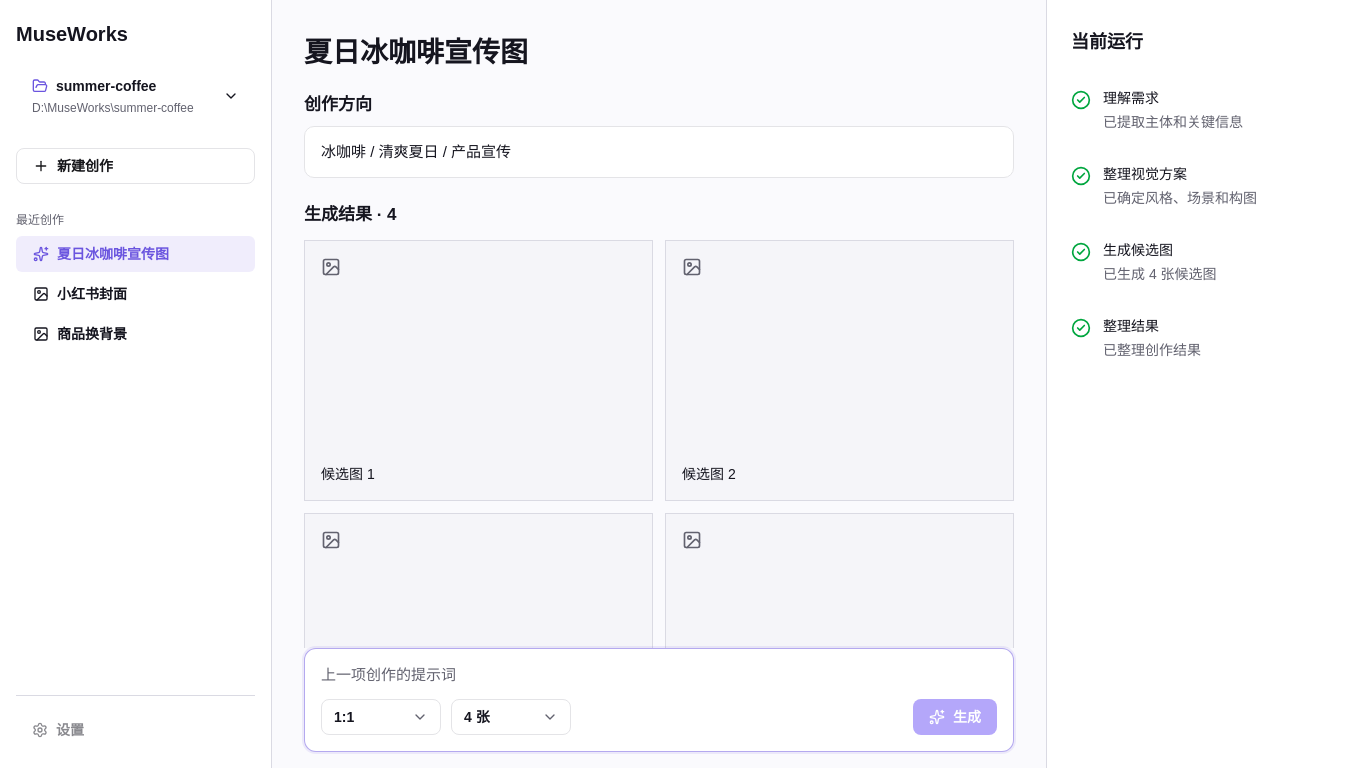
Scenario: creative workspace renderer › clears the Composer when a new CreativeTask is opened
Clear the field named "创作描述" at (388, 674), box [321,665,456,684]
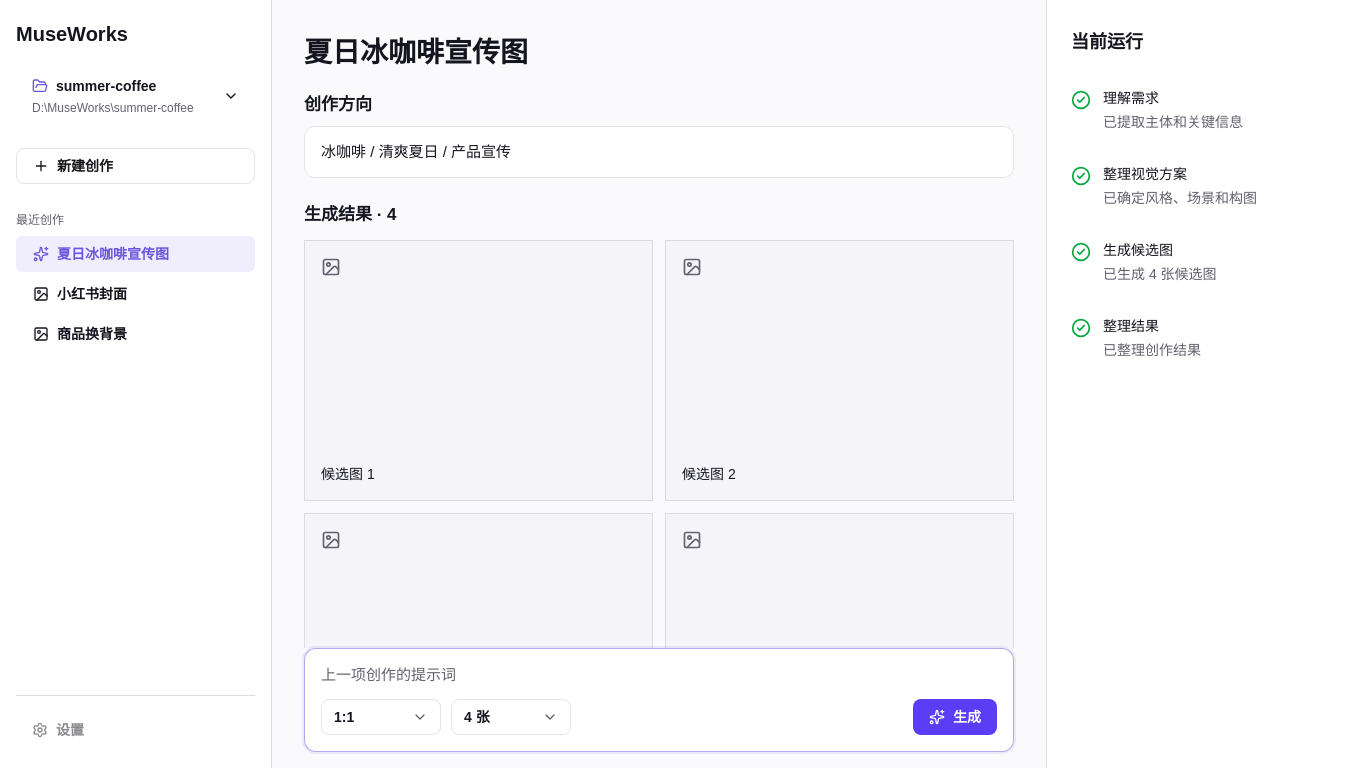
Result: the button "生成" is enabled at [913,699,997,735]
Click the button "新建创作".
click(136, 166)  # box [16,148,255,184]
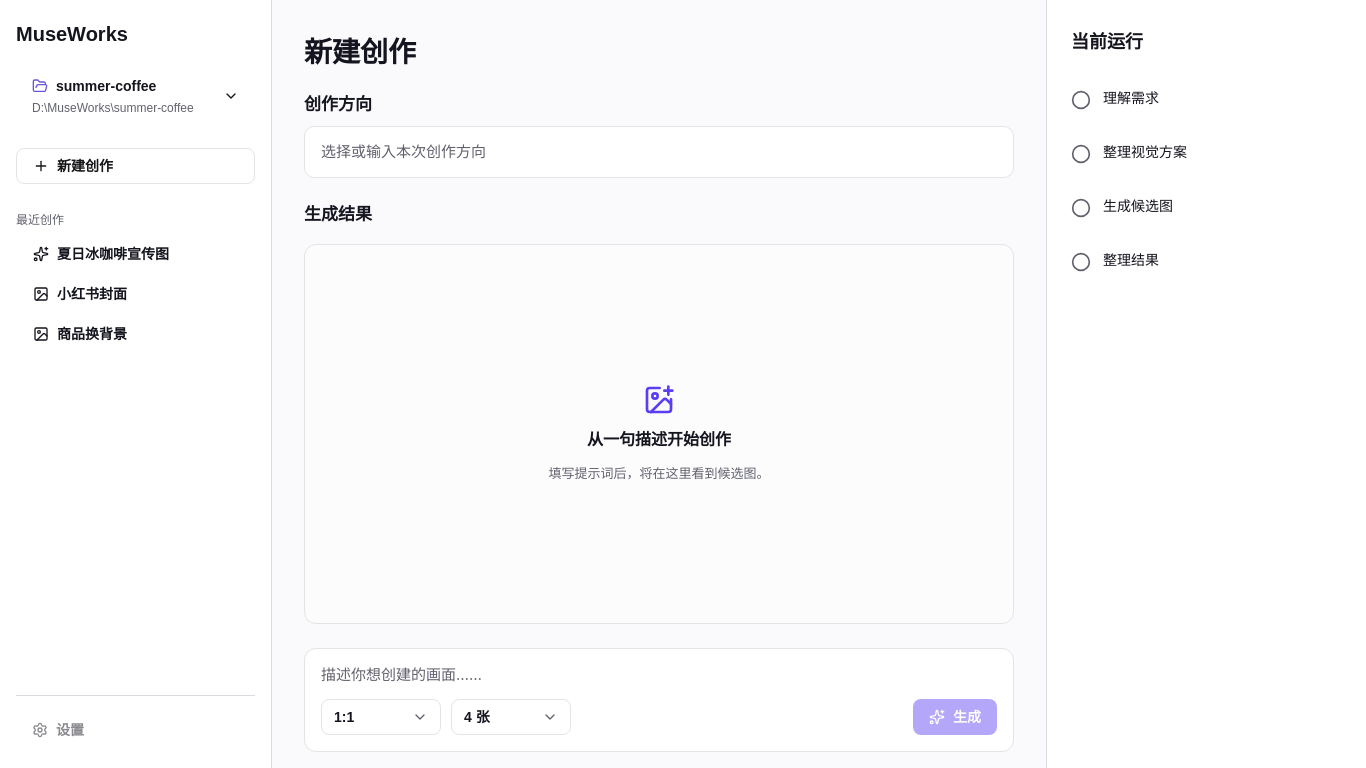
Result: the field named "创作描述" is empty at [321,665,997,685]
Result: the button "生成" is disabled at [913,699,997,735]
